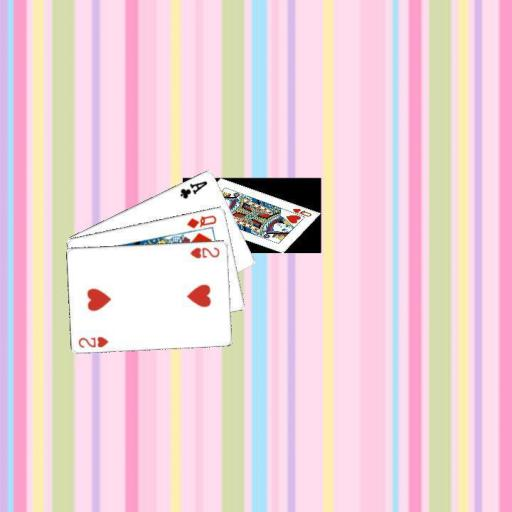card-corner: (177, 177, 209, 200), (184, 211, 218, 230), (76, 333, 110, 349), (187, 244, 221, 259)
